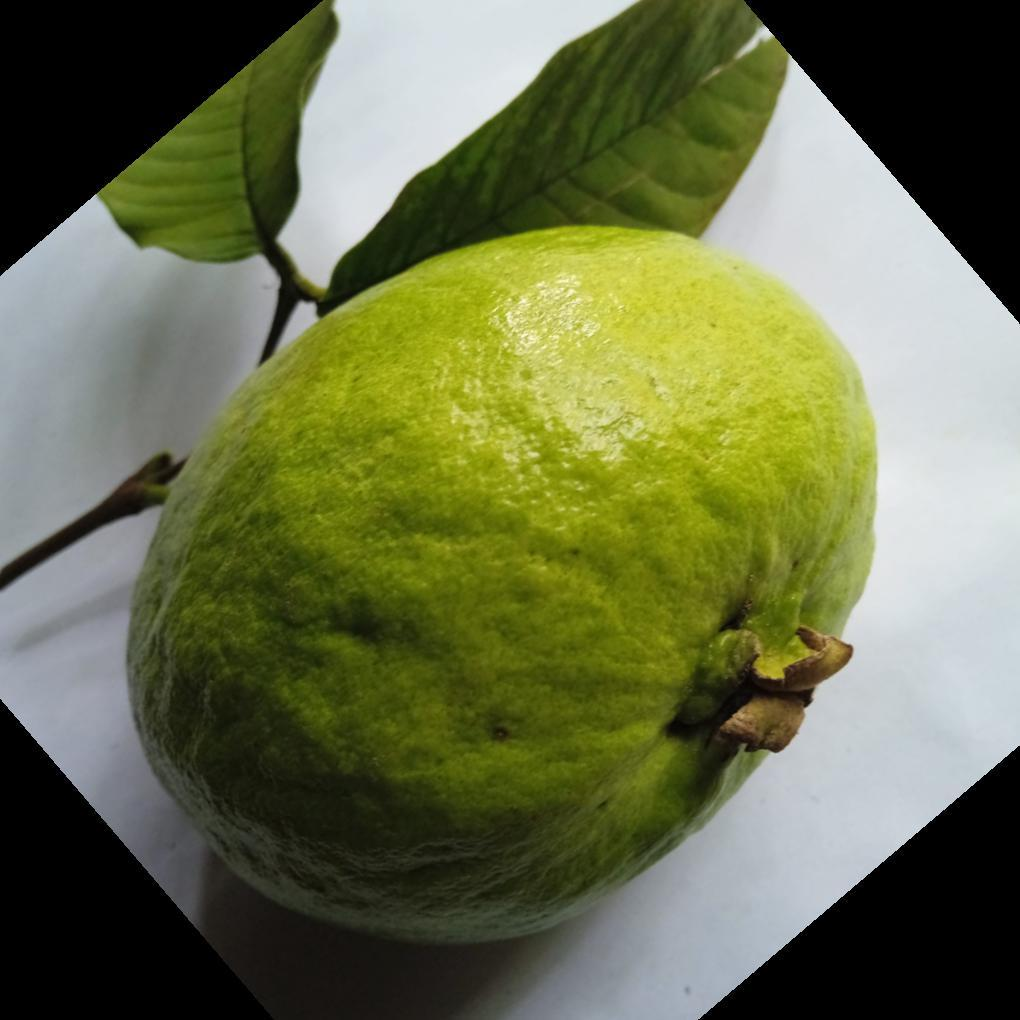FreshGuava: (123, 225, 879, 950)
